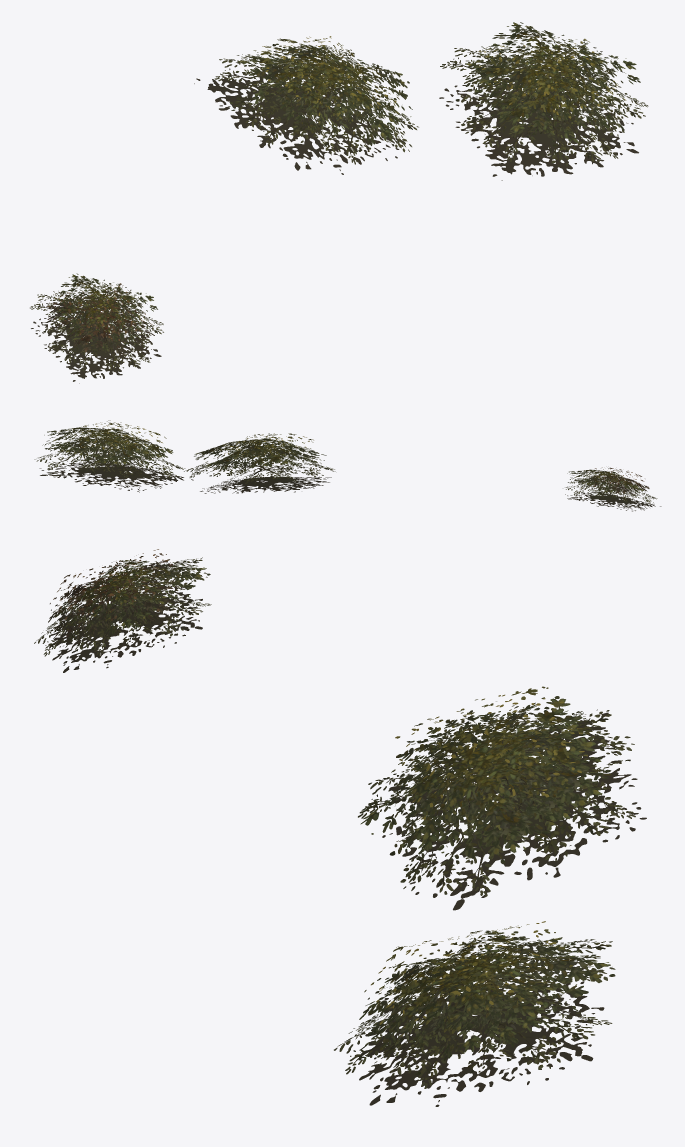
The model's file is plants_bushes06.fbx.
The picture shows the model from 3 angles, top to bottom: view 1: azimuth 30°, elevation 25°; view 2: azimuth 150°, elevation 25°; view 3: azimuth 270°, elevation 25°; orthographic projection. The views are drawn at different scales.
Visible parts, largest first — view 1: plants_bushes06-0; view 2: plants_bushes06-0; view 3: plants_bushes06-0.
Boxes of the visible parts, x1,y1,x2,y2 form: plants_bushes06-0: (30, 22, 648, 383); plants_bushes06-0: (34, 420, 661, 511); plants_bushes06-0: (34, 549, 646, 1106).
Bounding box in the file's own units: 18.61 × 3.54 × 10.01.
